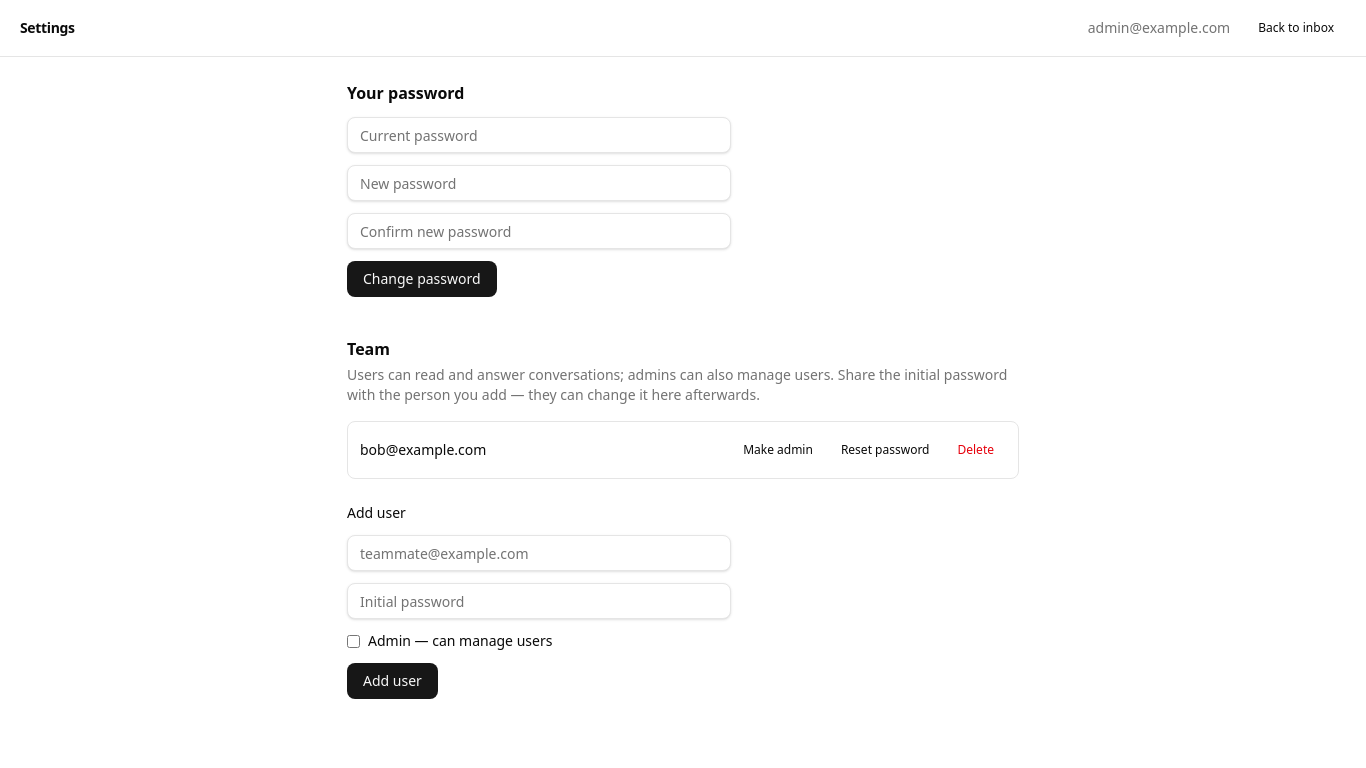
Test case: SettingsScreen delete confirmation › asks for confirmation in the row instead of deleting straight away
Click the text with test id "delete-user-7": (976, 450) [958, 441, 994, 458]
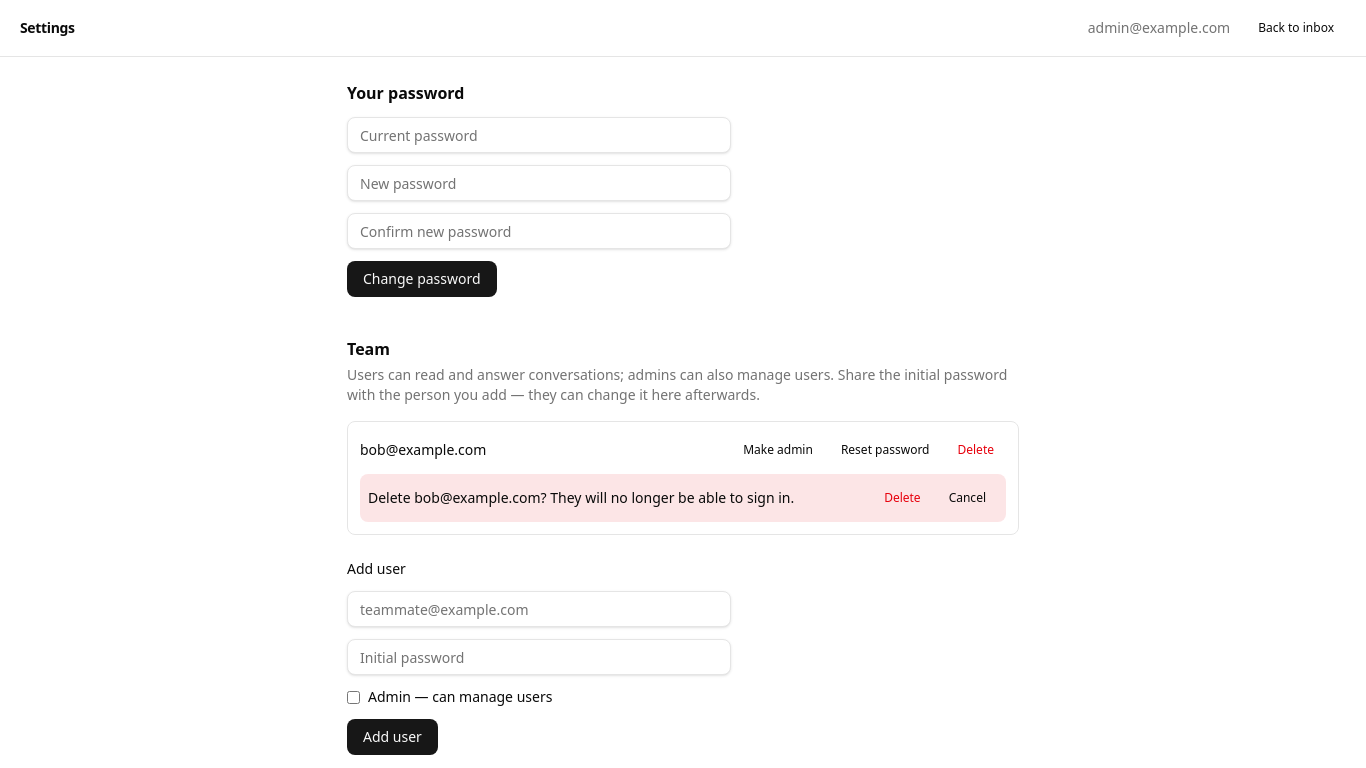
expect the text "Delete bob@example.com?" is shown: met, box [368, 488, 794, 507]
Click the text with test id "confirm-delete-7": (902, 498) [884, 489, 921, 506]
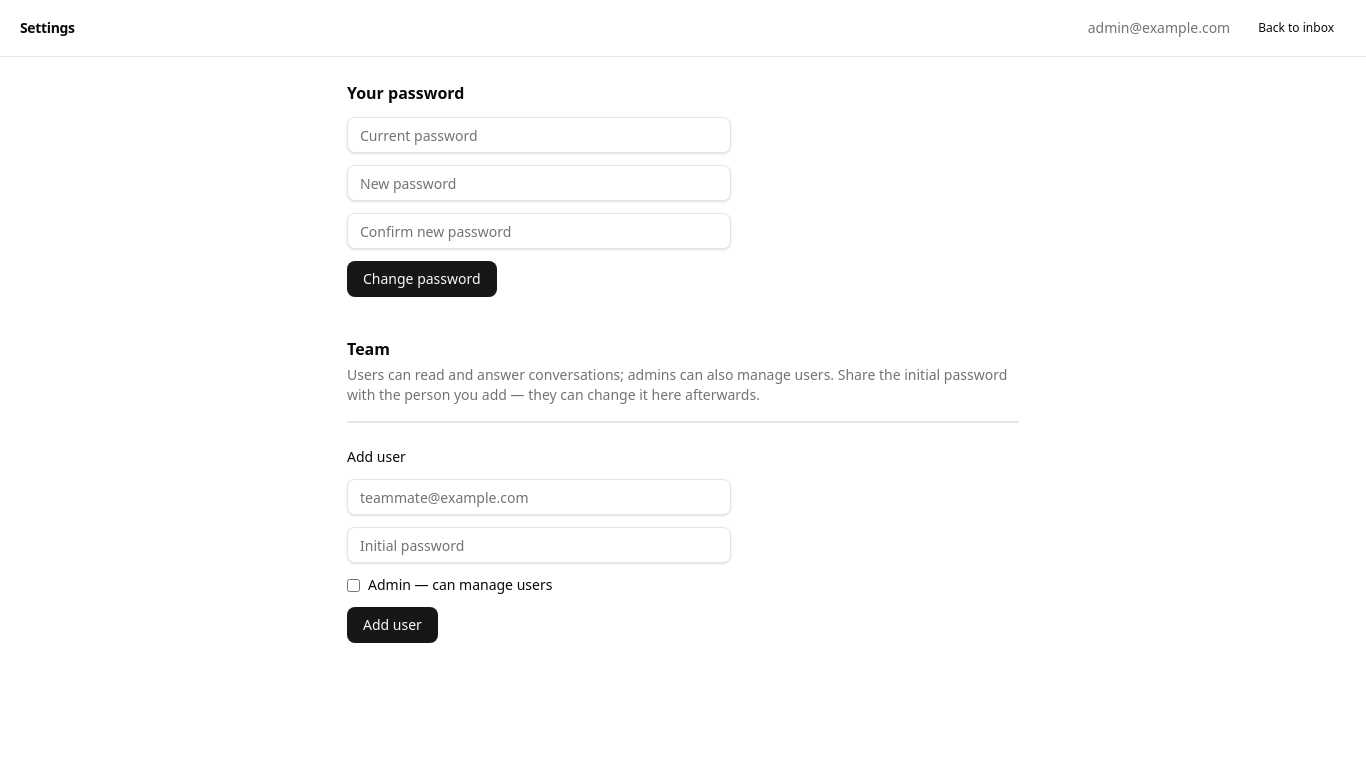
expect the text "bob@example.com" is gone: met
